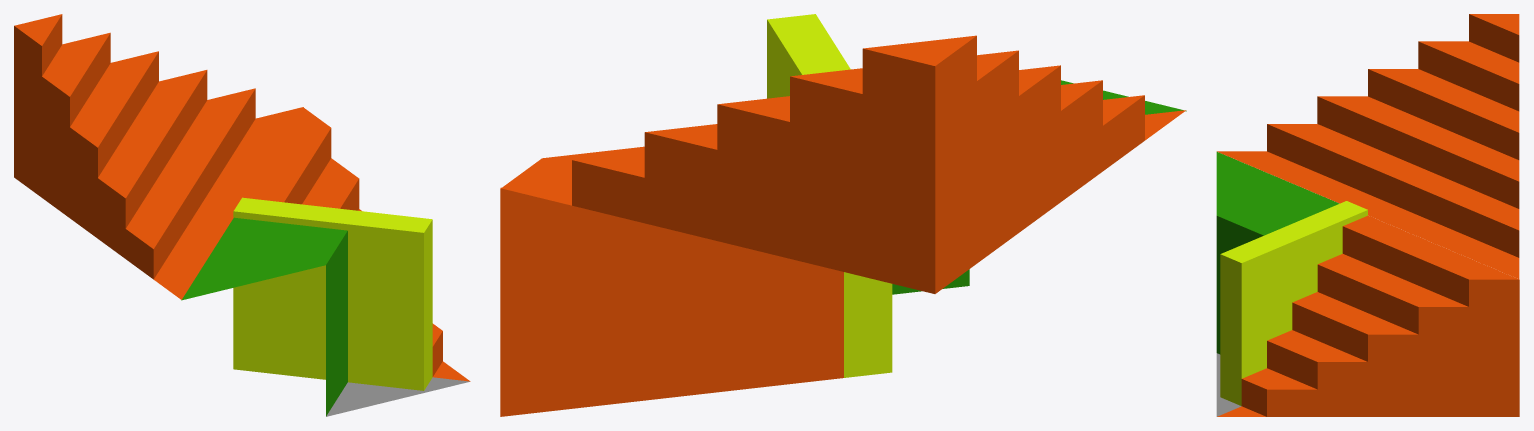
3 renders of one model, left to right at view 1: azimuth 30°, elevation 25°; view 2: azimuth 150°, elevation 25°; view 3: azimuth 270°, elevation 25°, orthographic. The views are drawn at different scales.
Parts seen in each view (by area): view 1: T_27_d_0; view 2: T_27_d_0; view 3: T_27_d_0.
Boxes of the visible parts, x1,y1,x2,y2 form: T_27_d_0: (14, 14, 470, 416); T_27_d_0: (500, 14, 1186, 416); T_27_d_0: (1216, 14, 1519, 416).
Bounding box in the file's own units: 99.98 × 99.96 × 99.86.
